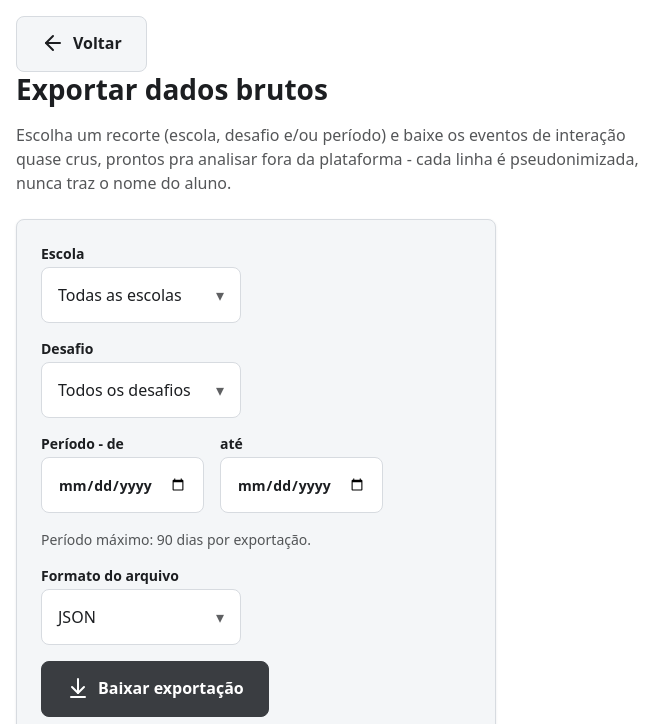
Test: AdminExport › requests a JSON export scoped to the selected challenge, downloads it, and shows a row count
Click the dropdown labelled "desafio".
click(141, 390)  # box [41, 362, 241, 418]
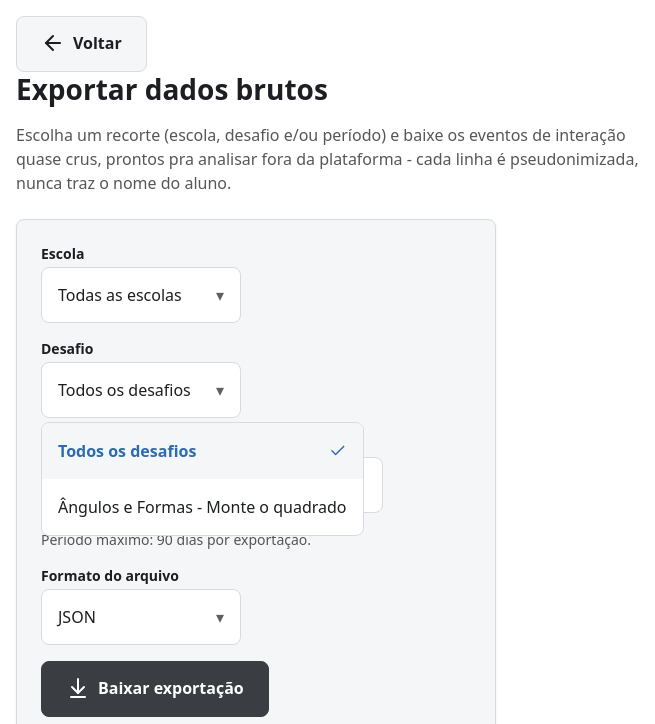
Click the option "Ângulos e Formas - Monte o quadrado".
click(202, 507)  # box [58, 496, 346, 518]
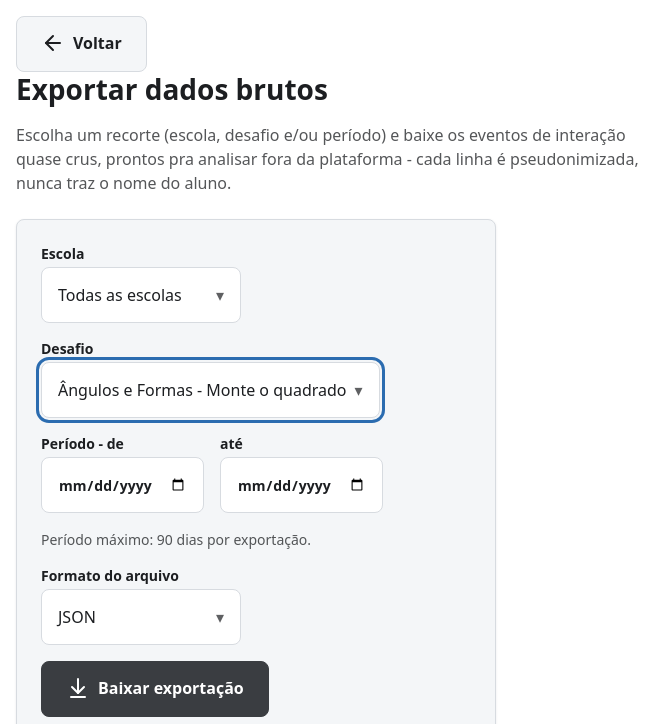
Click the button "Baixar exportação".
click(155, 689)  # box [41, 661, 269, 717]
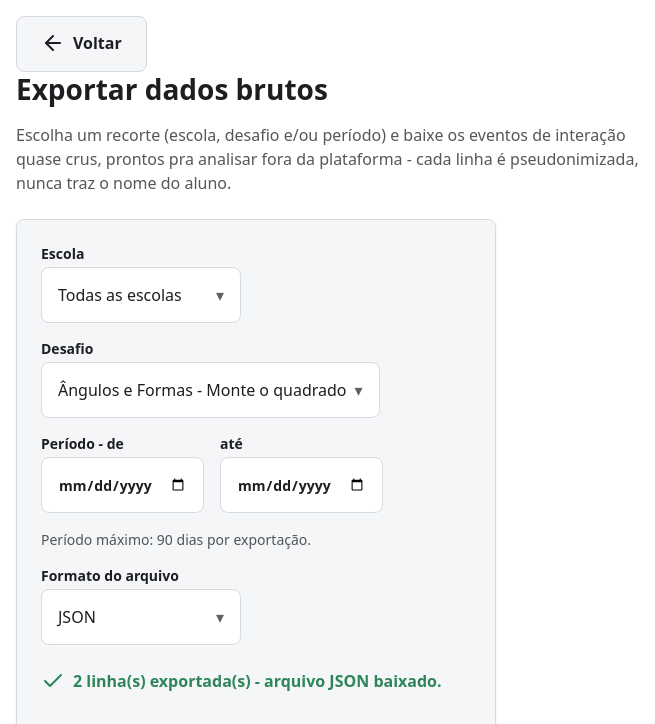
Now the text "2 linha(s) exportada(s) - arquivo JSON baixado." is shown, box [73, 669, 442, 693]
